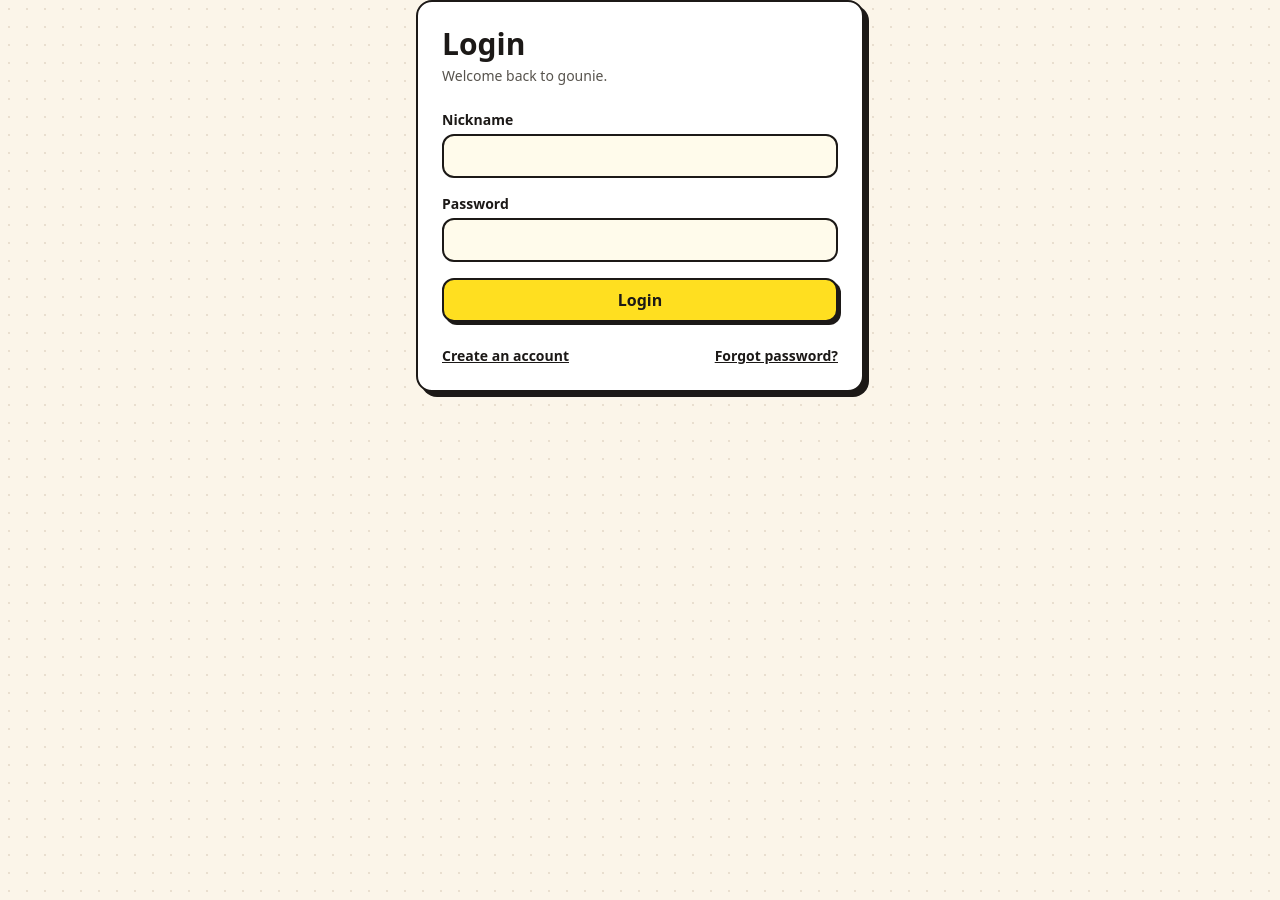
Test case: LoginPage › does not offer resend for a wrong password
Type "alice" into the field labelled "Nickname".
click(640, 156); type("alice")  # box [442,134,838,178]
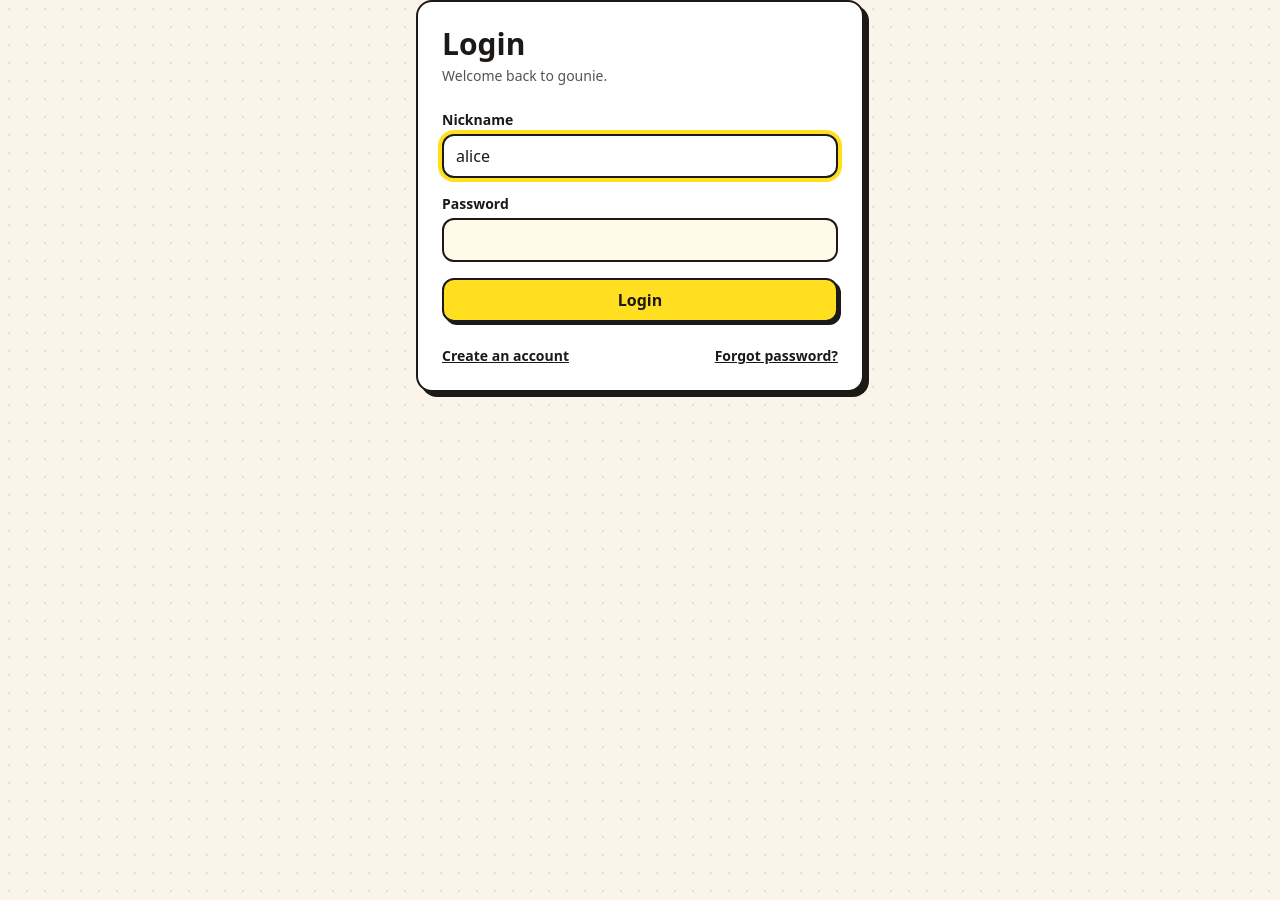
Type "nope" into the password field labelled "Password".
click(640, 240); type("nope")  # box [442,218,838,262]
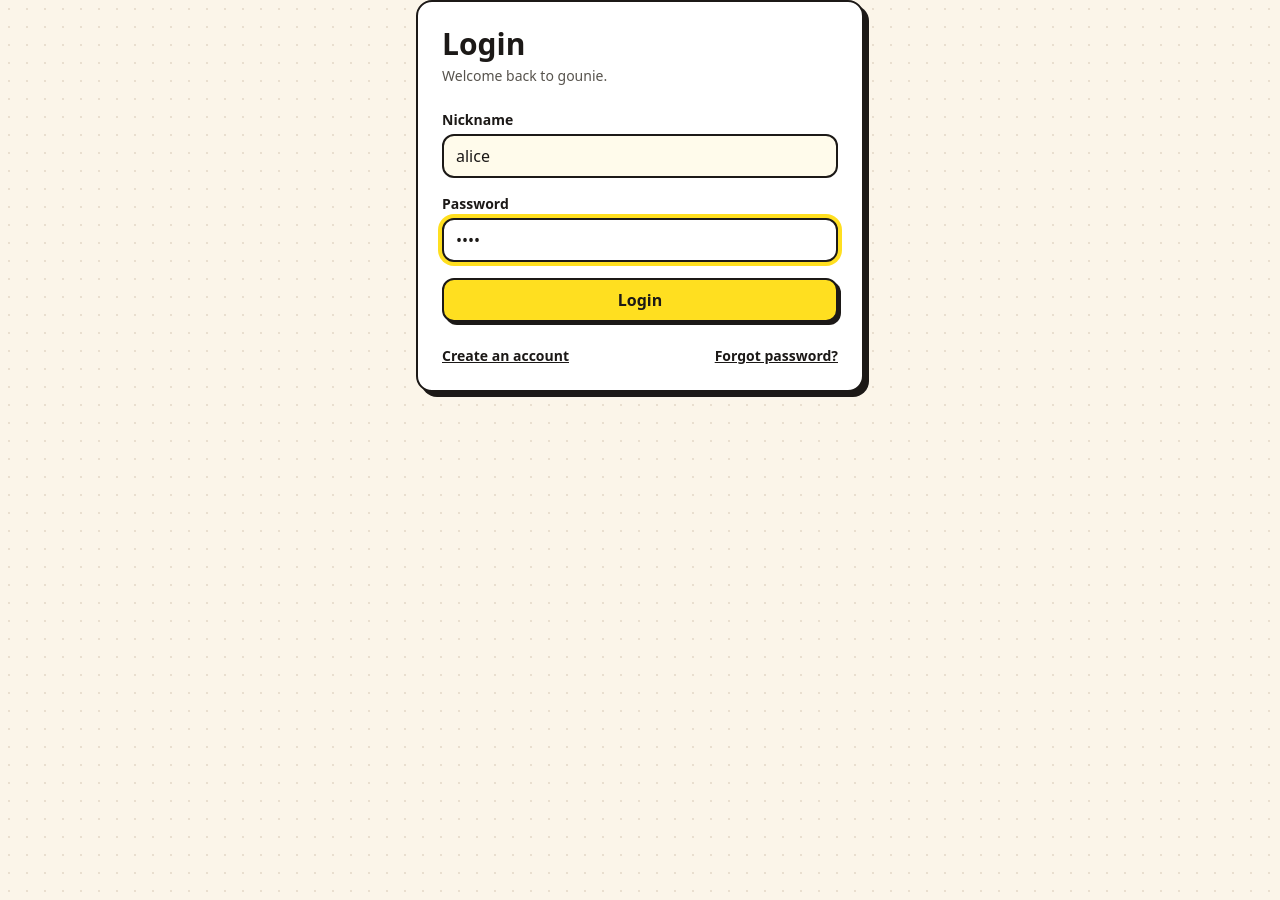
Click the button "Login".
click(640, 300)  # box [442,278,838,322]
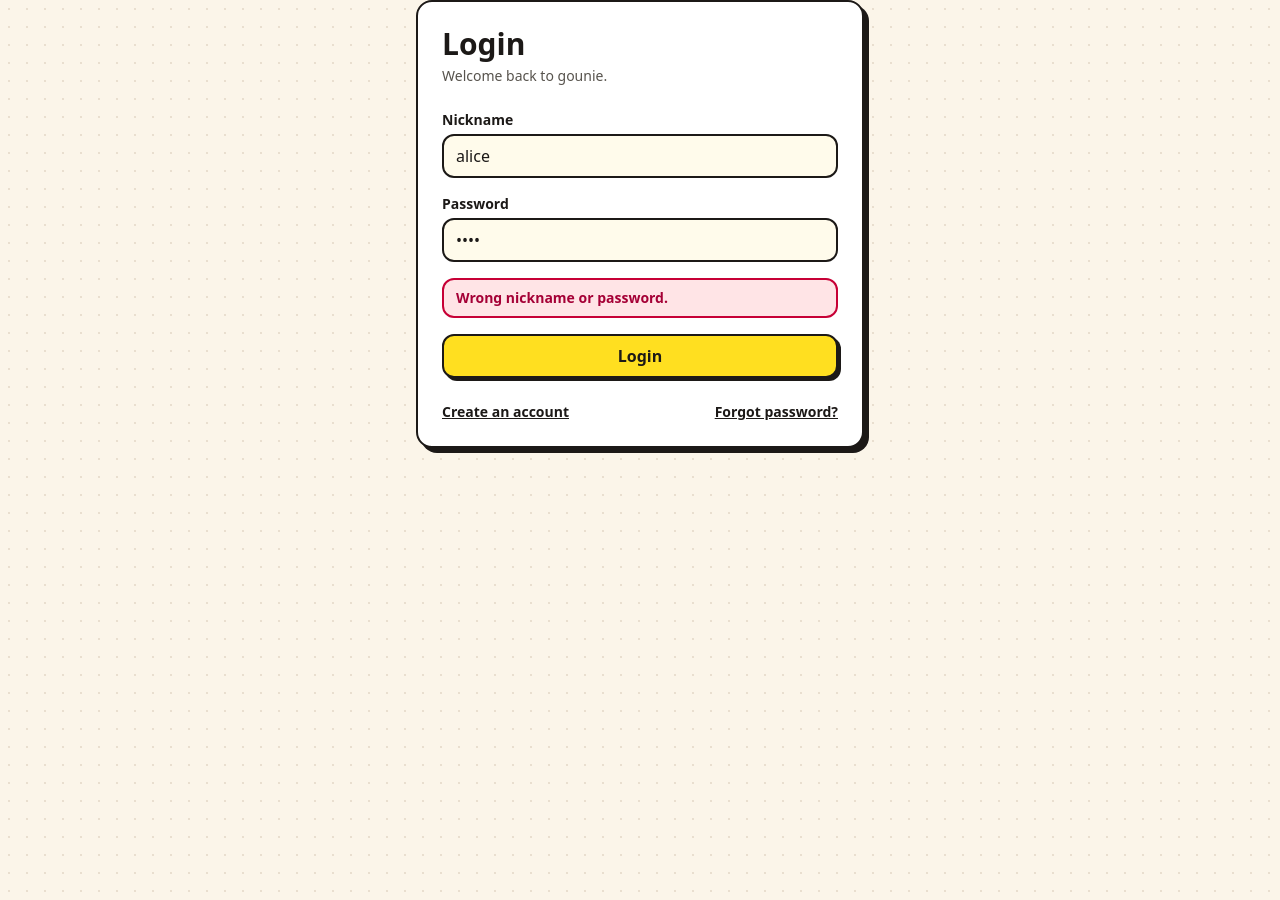
Now the message reads "Wrong nickname or password.", box [456,288,668,307]
